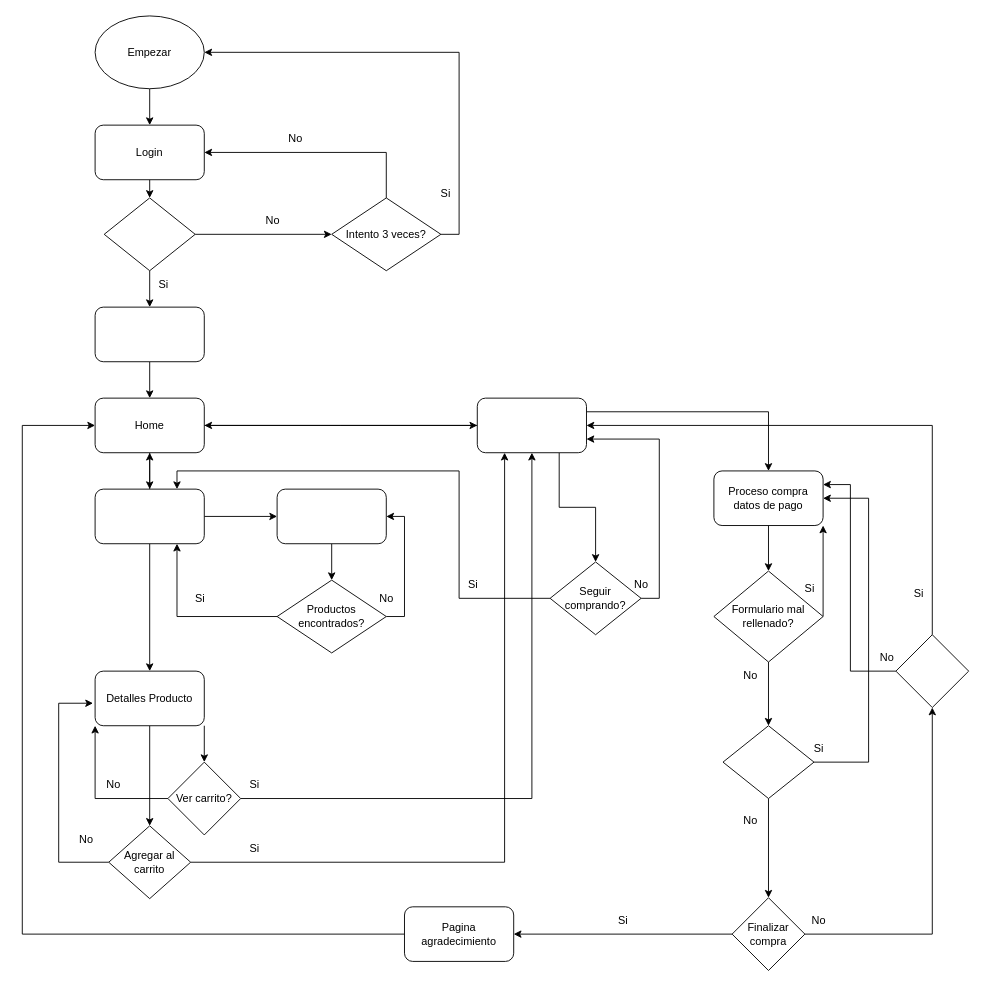
Some shapes in this 985 by 986 pixel diagram are drawn without their labels. Each missing label, with the centre of its shape:
"Autorizado?" belongs at (149,234).
"Busqueda avanzada" belongs at (331,516).
"Carrito" belongs at (531,425).
"Permiso concedido" belongs at (149,334).
"Problemas al pagar" belongs at (768,762).
"Productos" belongs at (149,516).
"Volver a carrito?" belongs at (932,671).
